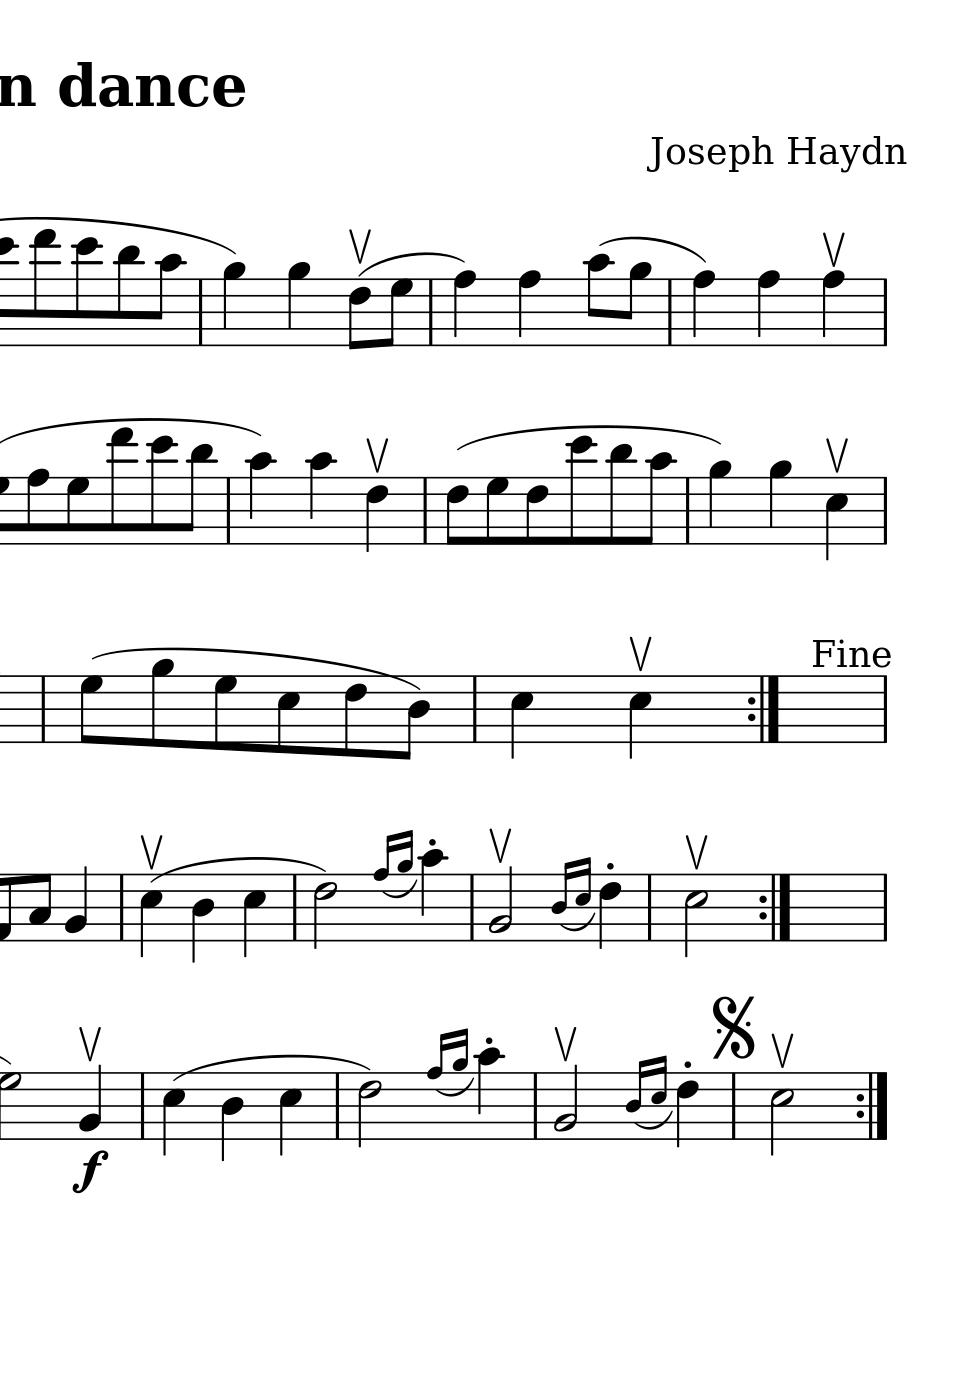2_2: (552, 1062, 580, 1142), (487, 865, 515, 943)
2_5: (681, 873, 708, 957), (768, 1071, 795, 1155)
2_6: (311, 872, 337, 949), (356, 1070, 381, 1147)
4_10: (245, 451, 276, 547), (305, 451, 336, 547), (475, 1046, 505, 1142), (417, 848, 447, 944)
4_2: (64, 865, 89, 944), (77, 1062, 103, 1139)
4_4: (189, 872, 216, 967), (218, 1071, 245, 1166)
4_5: (626, 674, 653, 761), (276, 1071, 303, 1158), (138, 873, 164, 962), (508, 673, 535, 761), (240, 872, 266, 960), (160, 1071, 186, 1159), (824, 475, 848, 563)
4_6: (363, 476, 389, 552), (673, 1072, 699, 1147), (597, 873, 622, 949)
4_8: (819, 269, 846, 348), (451, 269, 476, 349), (515, 269, 541, 349), (755, 269, 781, 349), (690, 269, 715, 348)
4_9: (220, 260, 246, 348), (767, 458, 792, 546), (706, 459, 732, 546), (285, 260, 310, 348)
8_10: (637, 452, 677, 547), (148, 252, 187, 348), (583, 253, 612, 348)
8_11: (180, 442, 216, 546), (605, 443, 635, 548), (113, 243, 143, 348)
8_12: (73, 236, 104, 348), (566, 434, 596, 547), (148, 434, 177, 545)
8_13: (28, 227, 60, 347), (106, 427, 135, 547)
8_3: (27, 872, 52, 943)
8_4: (396, 674, 430, 764)
8_5: (274, 674, 300, 756)
8_6: (342, 673, 367, 760), (346, 277, 371, 352), (524, 475, 549, 547), (444, 475, 469, 547)
8_7: (381, 277, 413, 348), (211, 673, 238, 752), (77, 673, 105, 747), (65, 475, 90, 546), (484, 475, 509, 546)
8_8: (24, 467, 49, 547)
8_9: (620, 261, 653, 348), (147, 657, 175, 750)
Appoggiature_2: (372, 829, 414, 946), (430, 1025, 470, 1142), (628, 1055, 669, 1142), (552, 856, 591, 941)
RightRepeatSign: (755, 873, 794, 942), (853, 1071, 891, 1140), (745, 676, 782, 744)
Segno: (708, 993, 757, 1060)
Single_barline: (191, 279, 210, 345), (876, 676, 894, 743), (422, 279, 440, 345), (875, 874, 893, 940), (329, 1073, 347, 1139), (679, 478, 697, 543), (876, 279, 893, 346), (220, 477, 237, 544), (417, 477, 434, 544), (876, 477, 893, 544), (113, 874, 130, 941), (662, 279, 679, 345), (287, 874, 304, 940), (35, 676, 51, 742), (466, 676, 482, 742), (134, 1073, 150, 1139), (465, 875, 479, 940), (727, 1073, 741, 1138), (642, 875, 657, 938), (528, 1074, 542, 1138)
Slur: (90, 646, 421, 691), (458, 425, 722, 448), (152, 858, 327, 883), (598, 235, 707, 267), (360, 251, 468, 276), (377, 878, 420, 900), (432, 1076, 477, 1096), (555, 913, 598, 933), (633, 1112, 673, 1133)
Tremolo_bar: (362, 434, 391, 473), (345, 226, 374, 264), (626, 634, 654, 673), (823, 434, 850, 475), (137, 831, 165, 870), (682, 831, 711, 870), (820, 230, 847, 269), (486, 825, 513, 863), (76, 1023, 103, 1062), (552, 1023, 578, 1062), (769, 1030, 795, 1067)
f: (68, 1148, 111, 1195)
